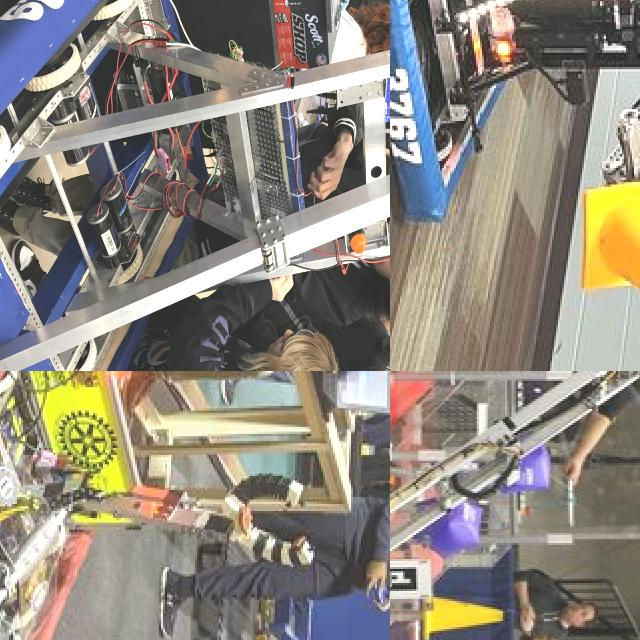FRC-Robots: (0, 0, 390, 371), (0, 371, 254, 640), (390, 371, 640, 640), (390, 0, 640, 264)
